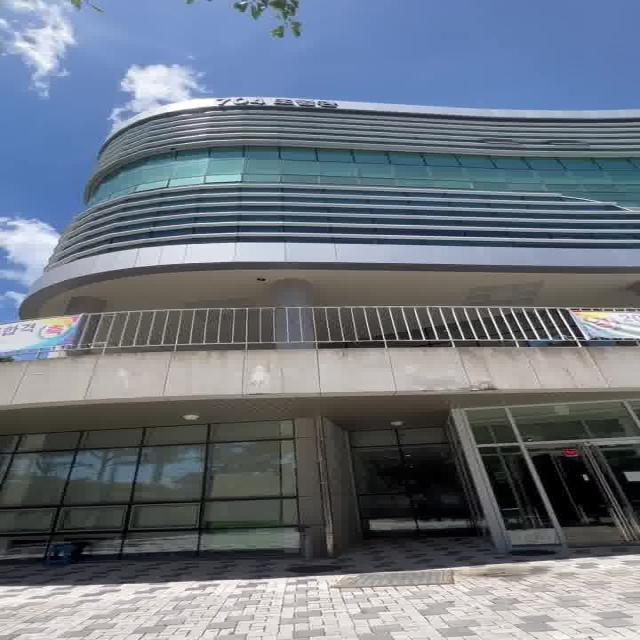building: (0, 84, 640, 547)
